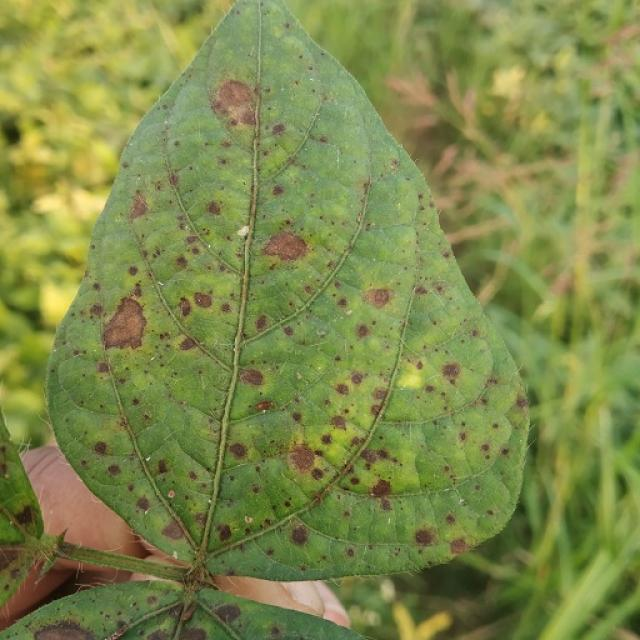Anthracnose: (286, 370, 426, 498), (4, 520, 67, 585), (233, 182, 256, 333), (102, 296, 149, 352), (253, 224, 313, 266), (213, 78, 257, 130), (31, 622, 96, 640), (288, 444, 318, 475), (364, 287, 393, 310), (213, 603, 242, 625), (129, 194, 149, 220), (13, 504, 35, 527), (161, 519, 185, 540), (239, 367, 264, 387), (0, 547, 20, 572), (164, 603, 187, 624), (370, 395, 390, 418), (370, 478, 392, 498), (290, 524, 310, 546), (441, 362, 461, 383), (227, 441, 247, 460), (414, 528, 435, 546), (449, 537, 469, 555), (193, 291, 212, 309), (180, 603, 197, 623), (178, 335, 197, 351), (178, 297, 192, 318), (205, 200, 222, 216), (217, 525, 233, 542), (329, 415, 347, 430), (135, 496, 151, 512), (179, 631, 207, 640), (92, 441, 108, 456), (88, 303, 104, 318), (356, 323, 371, 339), (255, 314, 269, 331), (156, 458, 170, 474), (271, 122, 286, 136), (254, 401, 274, 411), (350, 371, 364, 385), (95, 361, 110, 374), (114, 621, 129, 634), (335, 383, 349, 396), (175, 255, 188, 269), (146, 633, 172, 640), (271, 184, 285, 196), (268, 625, 282, 637), (127, 265, 139, 277), (9, 567, 21, 579), (282, 325, 294, 336), (480, 442, 490, 453), (313, 494, 323, 505), (345, 547, 355, 558), (167, 489, 175, 498), (244, 516, 253, 524)
Blackgram: (0, 0, 528, 639)
